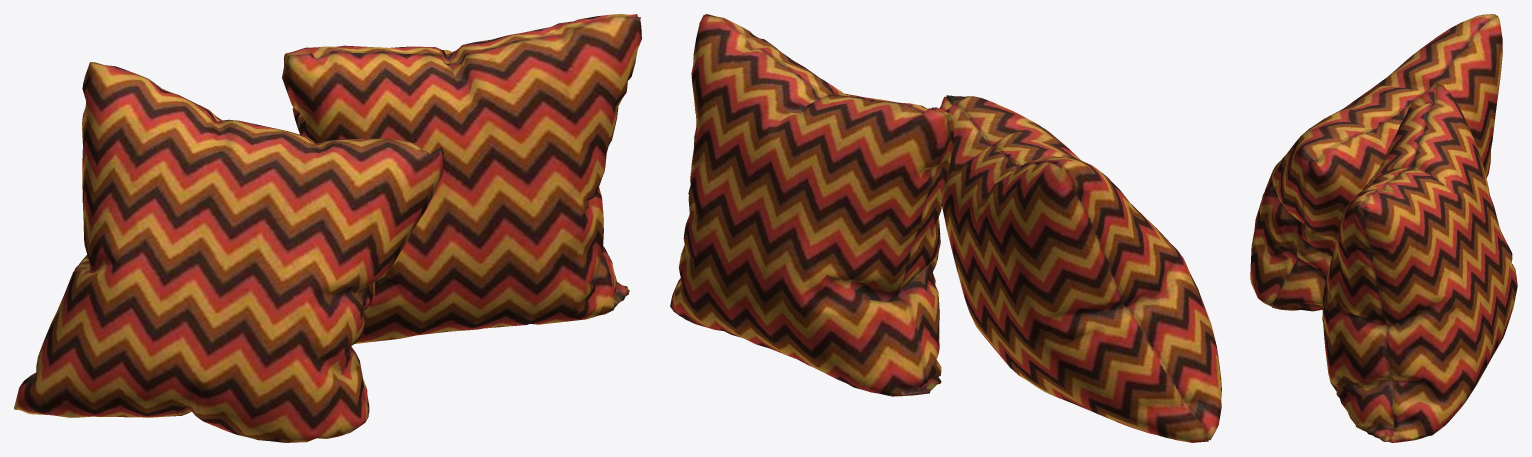
Rendered from throw_pillows_01.glb.
3 renders of one model, left to right at view 1: azimuth 30°, elevation 25°; view 2: azimuth 150°, elevation 25°; view 3: azimuth 270°, elevation 25°, orthographic. The views are drawn at different scales.
Parts seen in each view (by area): view 1: throw_pillows_01_pillow01, throw_pillows_01_pillow02; view 2: throw_pillows_01_pillow02, throw_pillows_01_pillow01; view 3: throw_pillows_01_pillow02, throw_pillows_01_pillow01.
Boxes of the visible parts, x1,y1,x2,y2 form: throw_pillows_01_pillow01: (14,62,443,442); throw_pillows_01_pillow02: (282,14,641,343); throw_pillows_01_pillow02: (670,14,953,396); throw_pillows_01_pillow01: (939,95,1221,442); throw_pillows_01_pillow02: (1322,84,1517,442); throw_pillows_01_pillow01: (1250,14,1502,311).
Bounding box in the file's own units: 0.9401 × 0.4502 × 0.4519.
1 material, 1 textured.
